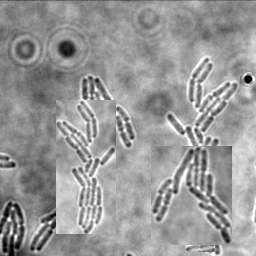Dividing: (185, 241, 215, 252)
Microcolony: (167, 57, 238, 216), (56, 100, 116, 234), (151, 146, 232, 245), (30, 204, 72, 251), (1, 200, 26, 255)
